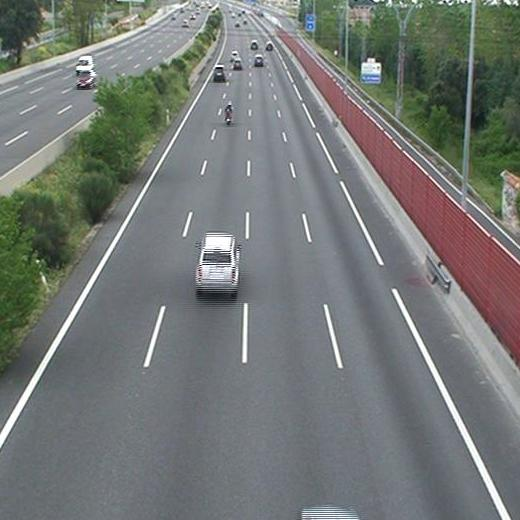car: (195, 235, 239, 288), (213, 64, 226, 82), (233, 58, 243, 69), (254, 56, 263, 66), (229, 51, 238, 60), (250, 41, 257, 49), (266, 42, 273, 50)
motorcycle: (224, 100, 234, 126)
